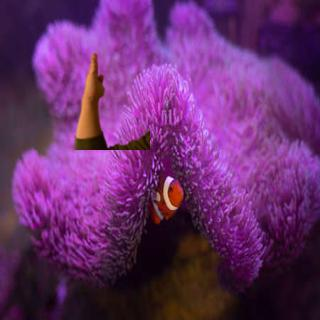RIGHT: (81, 50, 108, 104)
